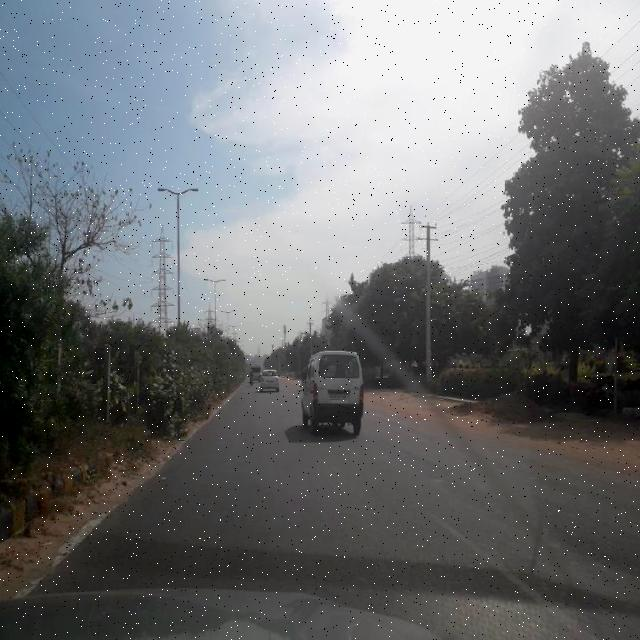D20: (110, 444, 527, 618)
D44: (420, 492, 580, 620)
